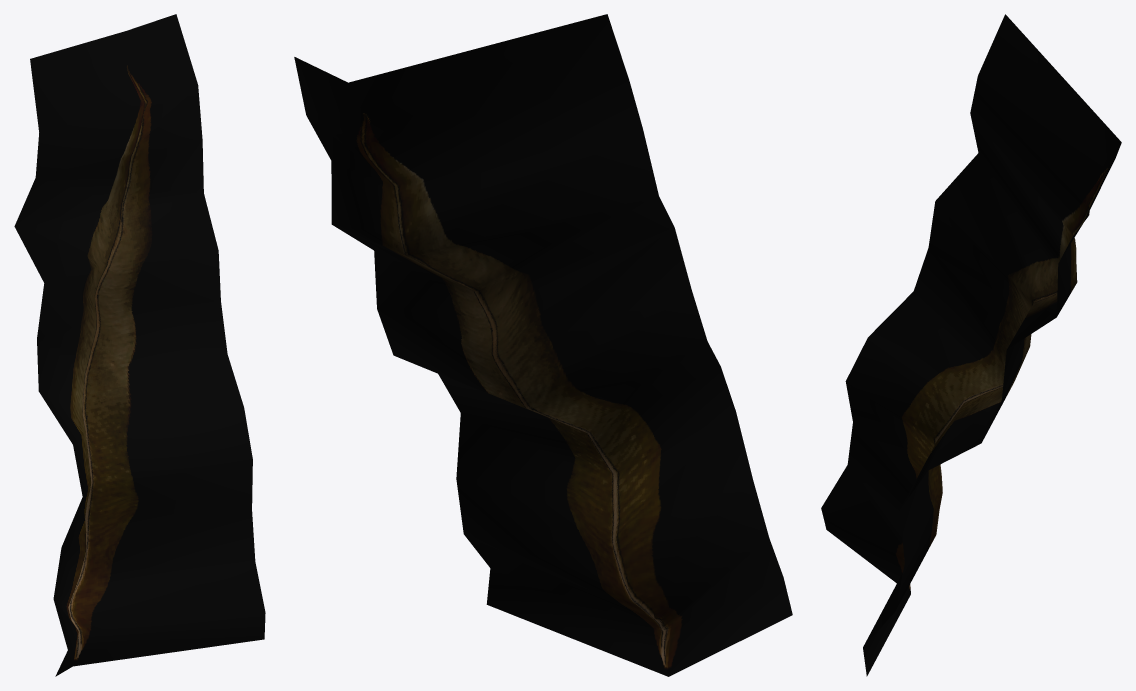
File: toxic_plant.glb
3 renders of one model, left to right at view 1: azimuth 30°, elevation 25°; view 2: azimuth 150°, elevation 25°; view 3: azimuth 270°, elevation 25°, orthographic. The views are drawn at different scales.
Parts seen in each view (by area): view 1: Plane.002; view 2: Plane.002; view 3: Plane.002.
Boxes of the visible parts, left/top/right/bottom form: Plane.002: left=14, top=14, right=265, bottom=676; Plane.002: left=294, top=14, right=792, bottom=676; Plane.002: left=821, top=14, right=1121, bottom=676.
Bounding box in the file's own units: 0.2093 × 0.4251 × 0.199.
Materials: 1 (1 with a texture image).
